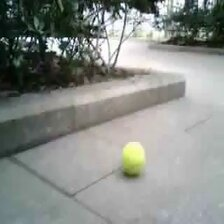tennis: (122, 143, 145, 173)
